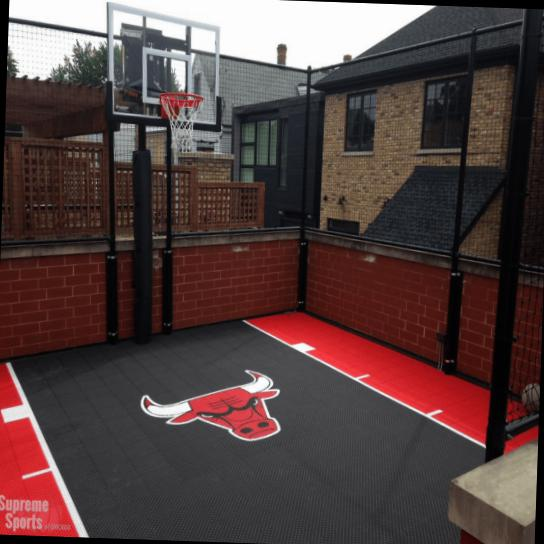basketball-hoop: (156, 89, 204, 154)
